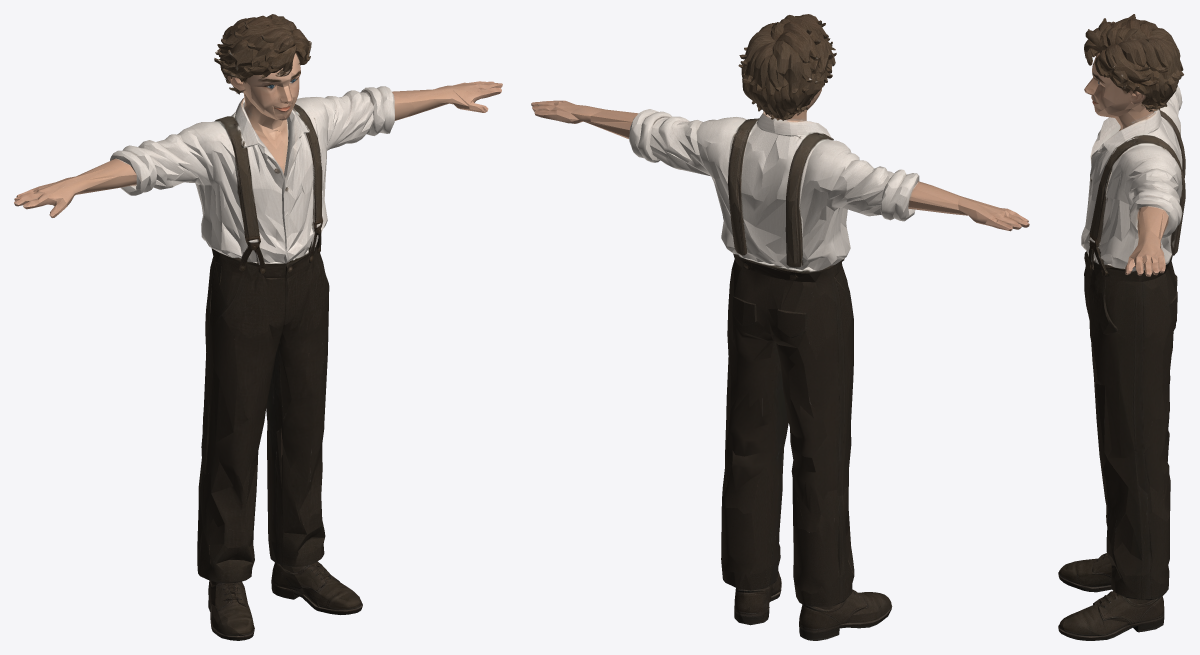
Rendered from joseph-smith-child-10k.glb.
3 renders of one model, left to right at view 1: azimuth 30°, elevation 25°; view 2: azimuth 150°, elevation 25°; view 3: azimuth 270°, elevation 25°, orthographic.
Parts seen in each view (by area): view 1: output_unwrapped; view 2: output_unwrapped; view 3: output_unwrapped.
Part boxes in pixels (x1=…): output_unwrapped: x1=14, y1=14, x2=502, y2=640; output_unwrapped: x1=531, y1=14, x2=1029, y2=640; output_unwrapped: x1=1058, y1=14, x2=1185, y2=640.
Bounding box in the file's own units: 1.65 × 1.9 × 0.3743.
1 material, 1 textured.
